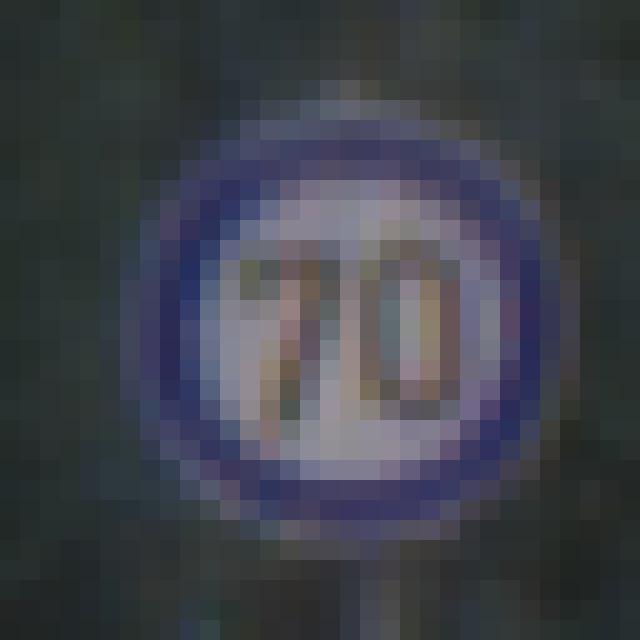SPEED LIMIT 70: (120, 111, 586, 531)
